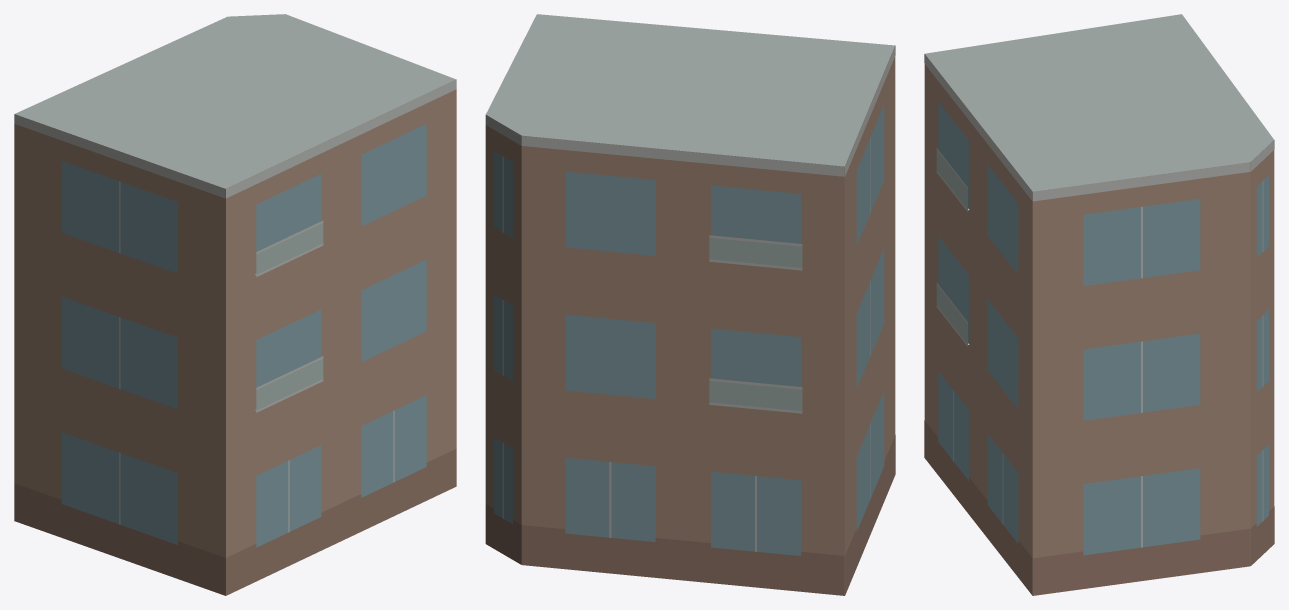
Rendered from survey-upis-32623657.glb.
3 renders of one model, left to right at view 1: azimuth 30°, elevation 25°; view 2: azimuth 150°, elevation 25°; view 3: azimuth 270°, elevation 25°, orthographic. The views are drawn at different scales.
Visible parts, largest first — view 1: survey-upis-32623657.tmp; view 2: survey-upis-32623657.tmp; view 3: survey-upis-32623657.tmp.
Boxes of the visible parts, x1,y1,x2,y2 form: survey-upis-32623657.tmp: (14, 14, 456, 595); survey-upis-32623657.tmp: (485, 14, 895, 595); survey-upis-32623657.tmp: (924, 14, 1274, 595).
Size of the model in its own units: 9.64 by 10.2 by 8.01.
